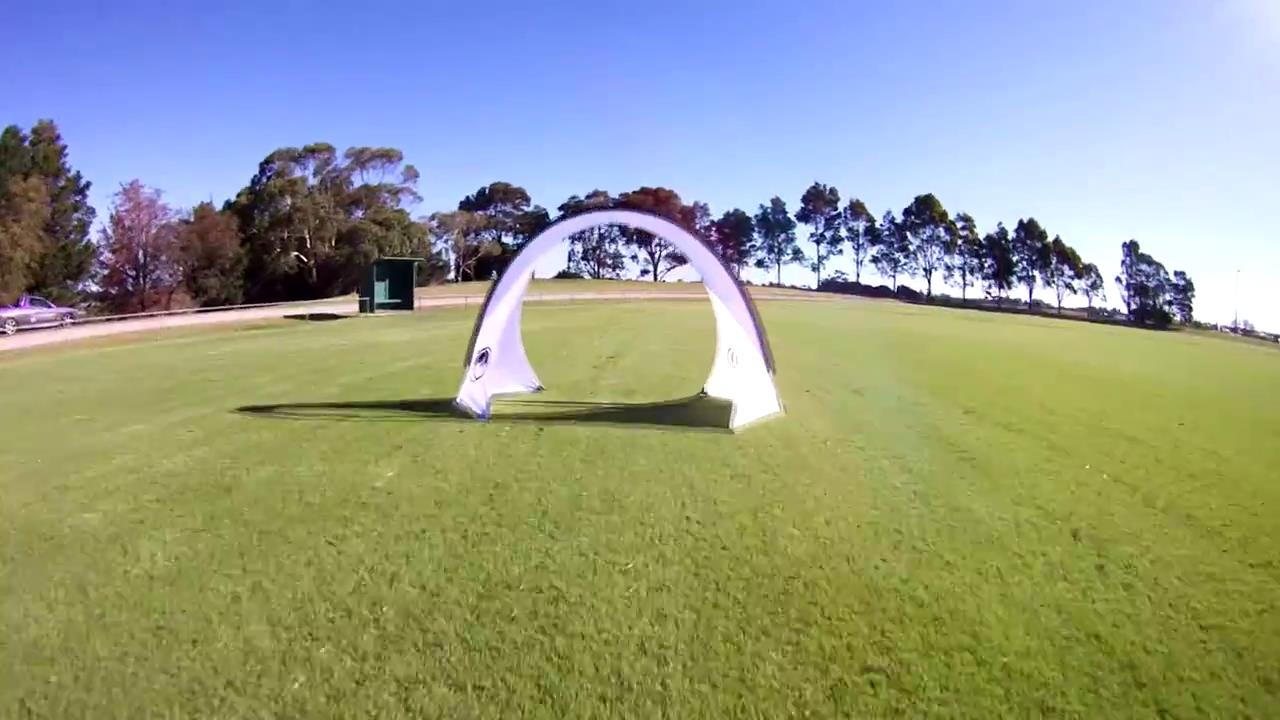gate: (449, 206, 790, 437)
